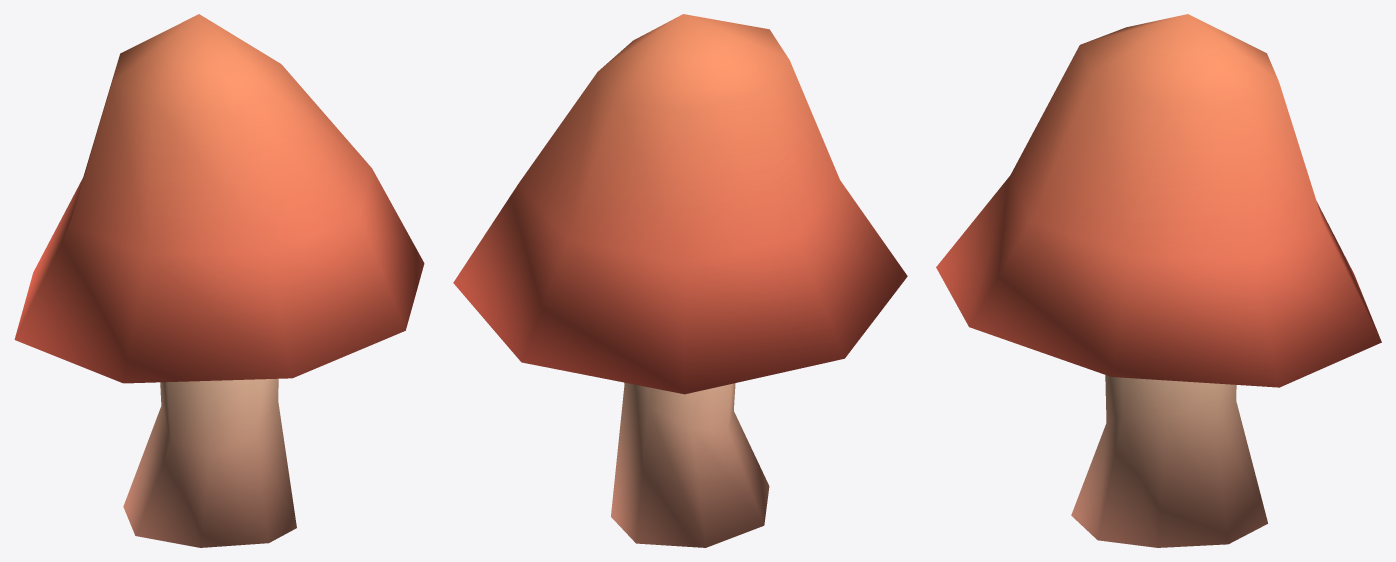
Rendered from mushroom.fbx.
3 renders of one model, left to right at view 1: azimuth 30°, elevation 25°; view 2: azimuth 150°, elevation 25°; view 3: azimuth 270°, elevation 25°, orthographic.
Parts seen in each view (by area): view 1: Mushroom2.001; view 2: Mushroom2.001; view 3: Mushroom2.001.
Part boxes in pixels (x1,y1,x2,y2): Mushroom2.001: [14, 14, 424, 547]; Mushroom2.001: [453, 14, 907, 547]; Mushroom2.001: [936, 14, 1381, 547].
Bounding box in the file's own units: 622 × 826 × 659.
